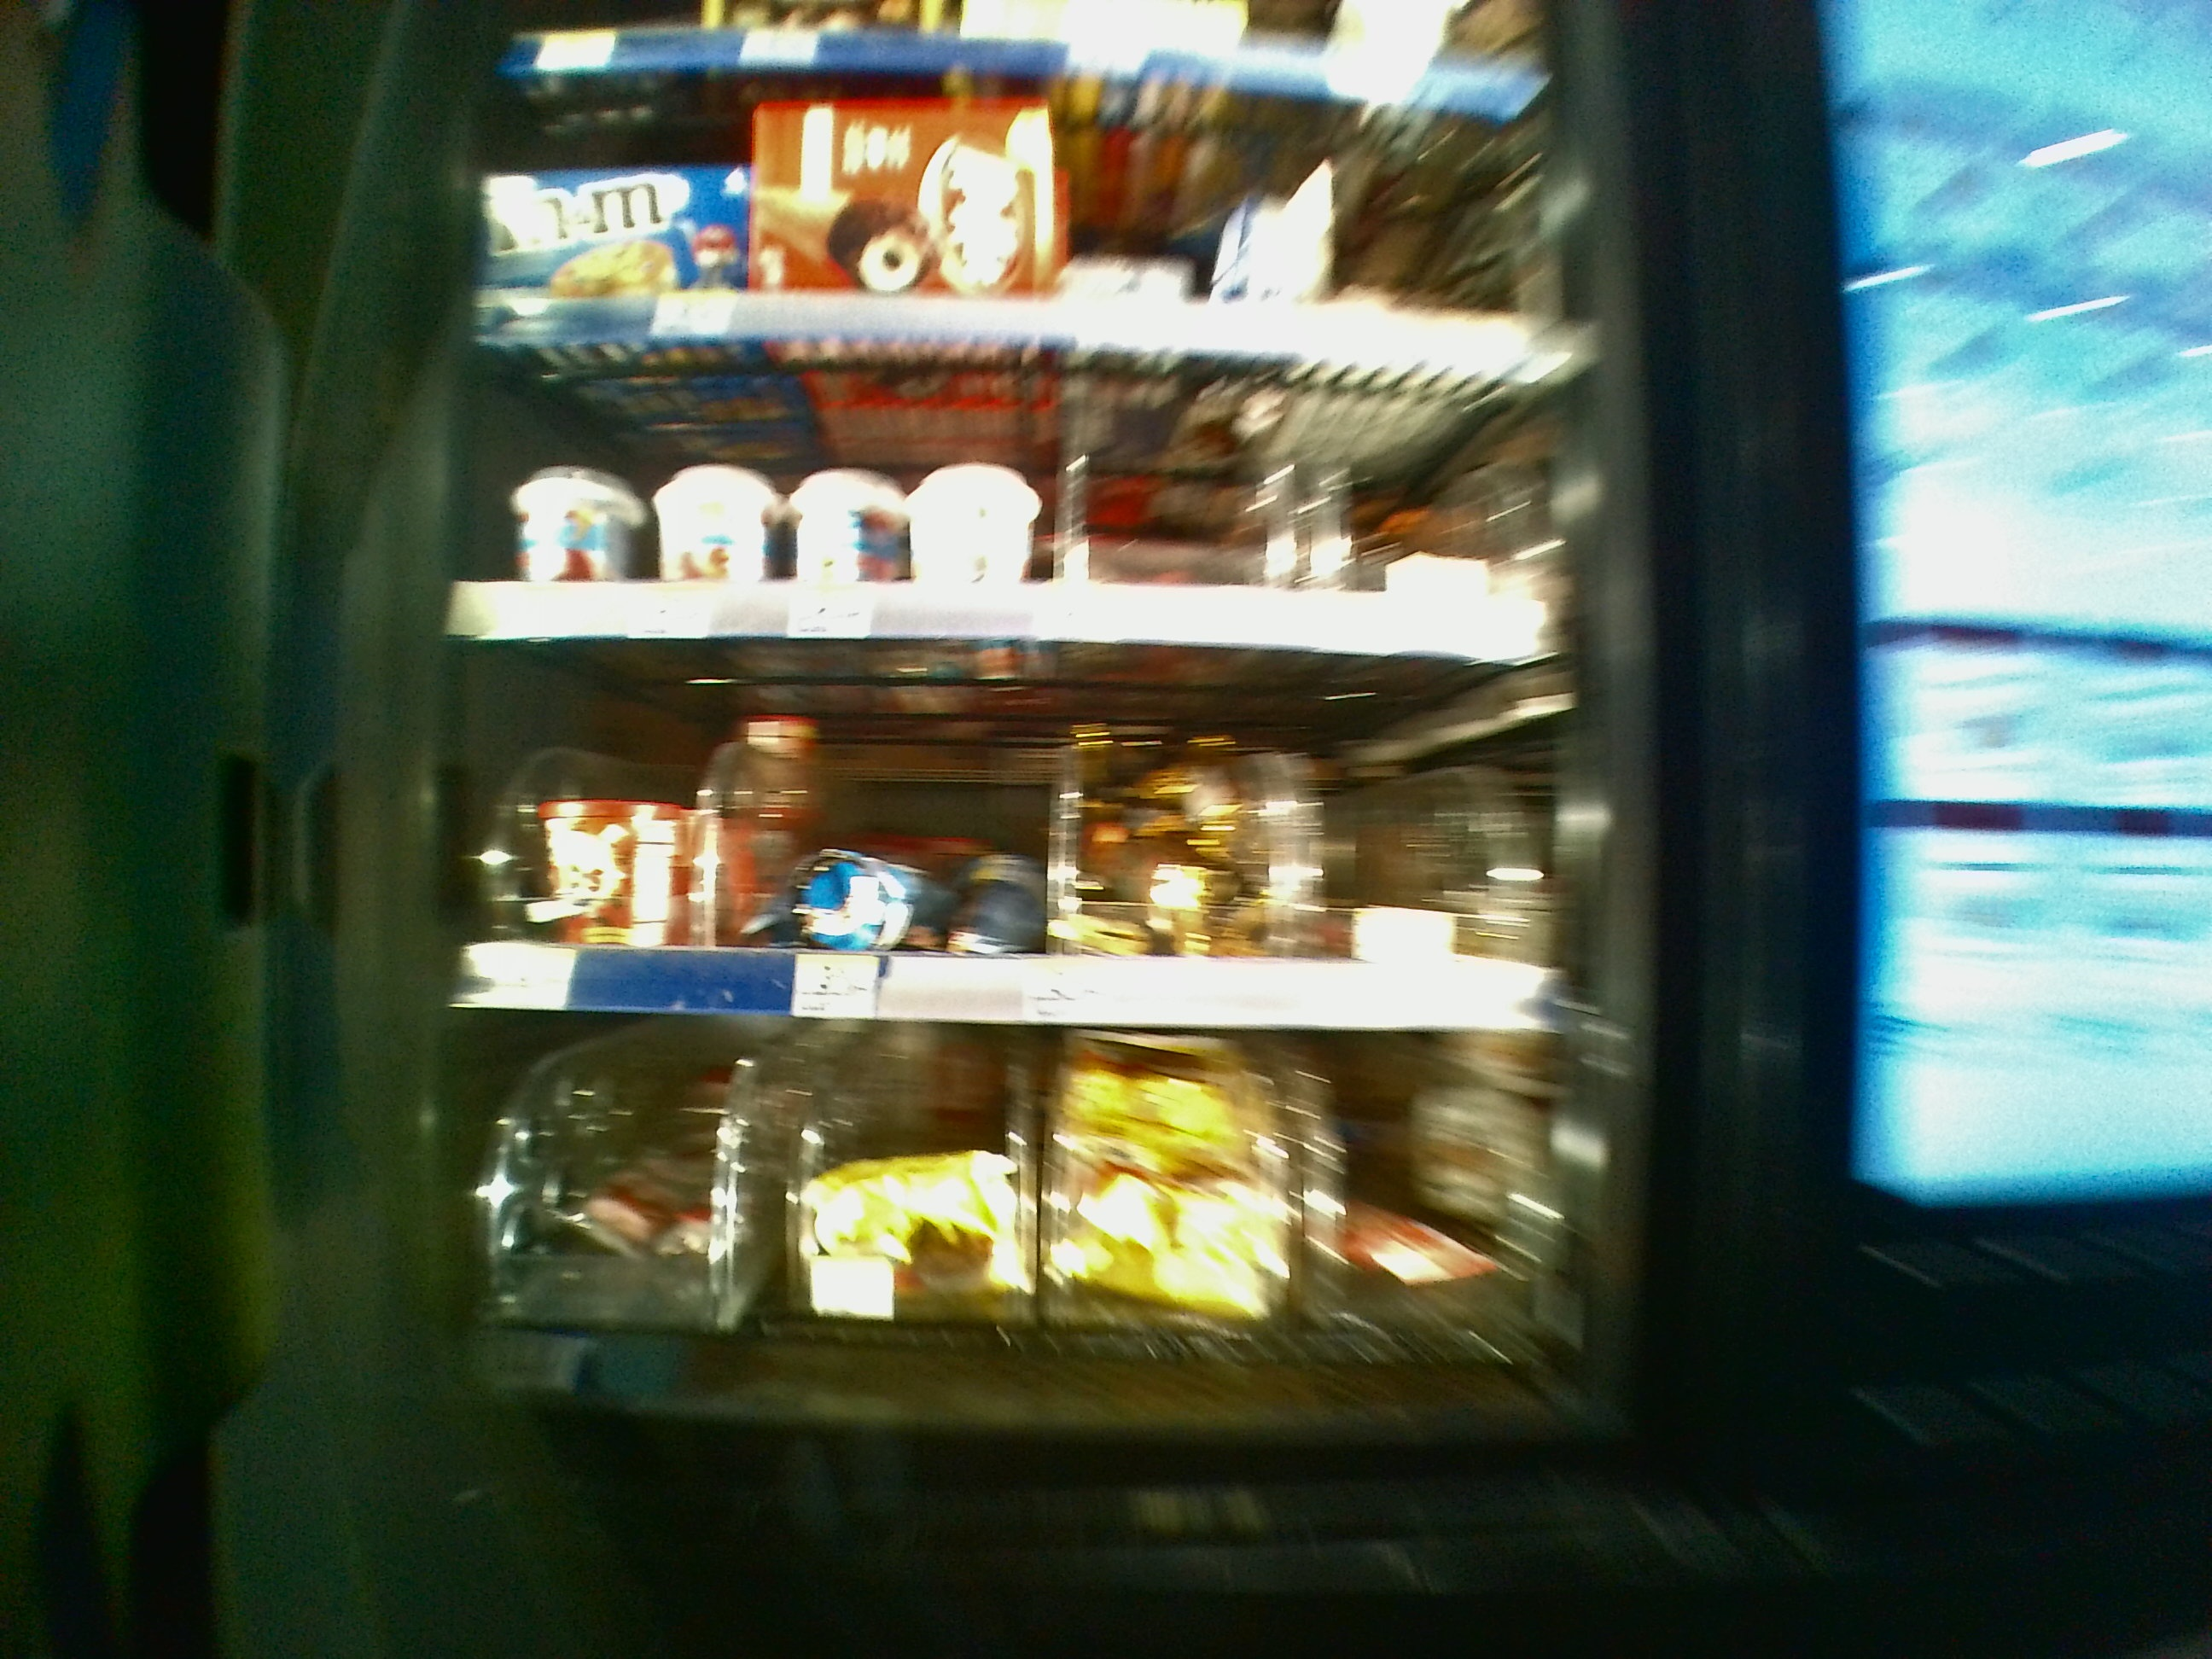shelf: (428, 1025, 1599, 1378), (451, 666, 1599, 1012), (462, 352, 1587, 647), (477, 82, 1571, 335)
